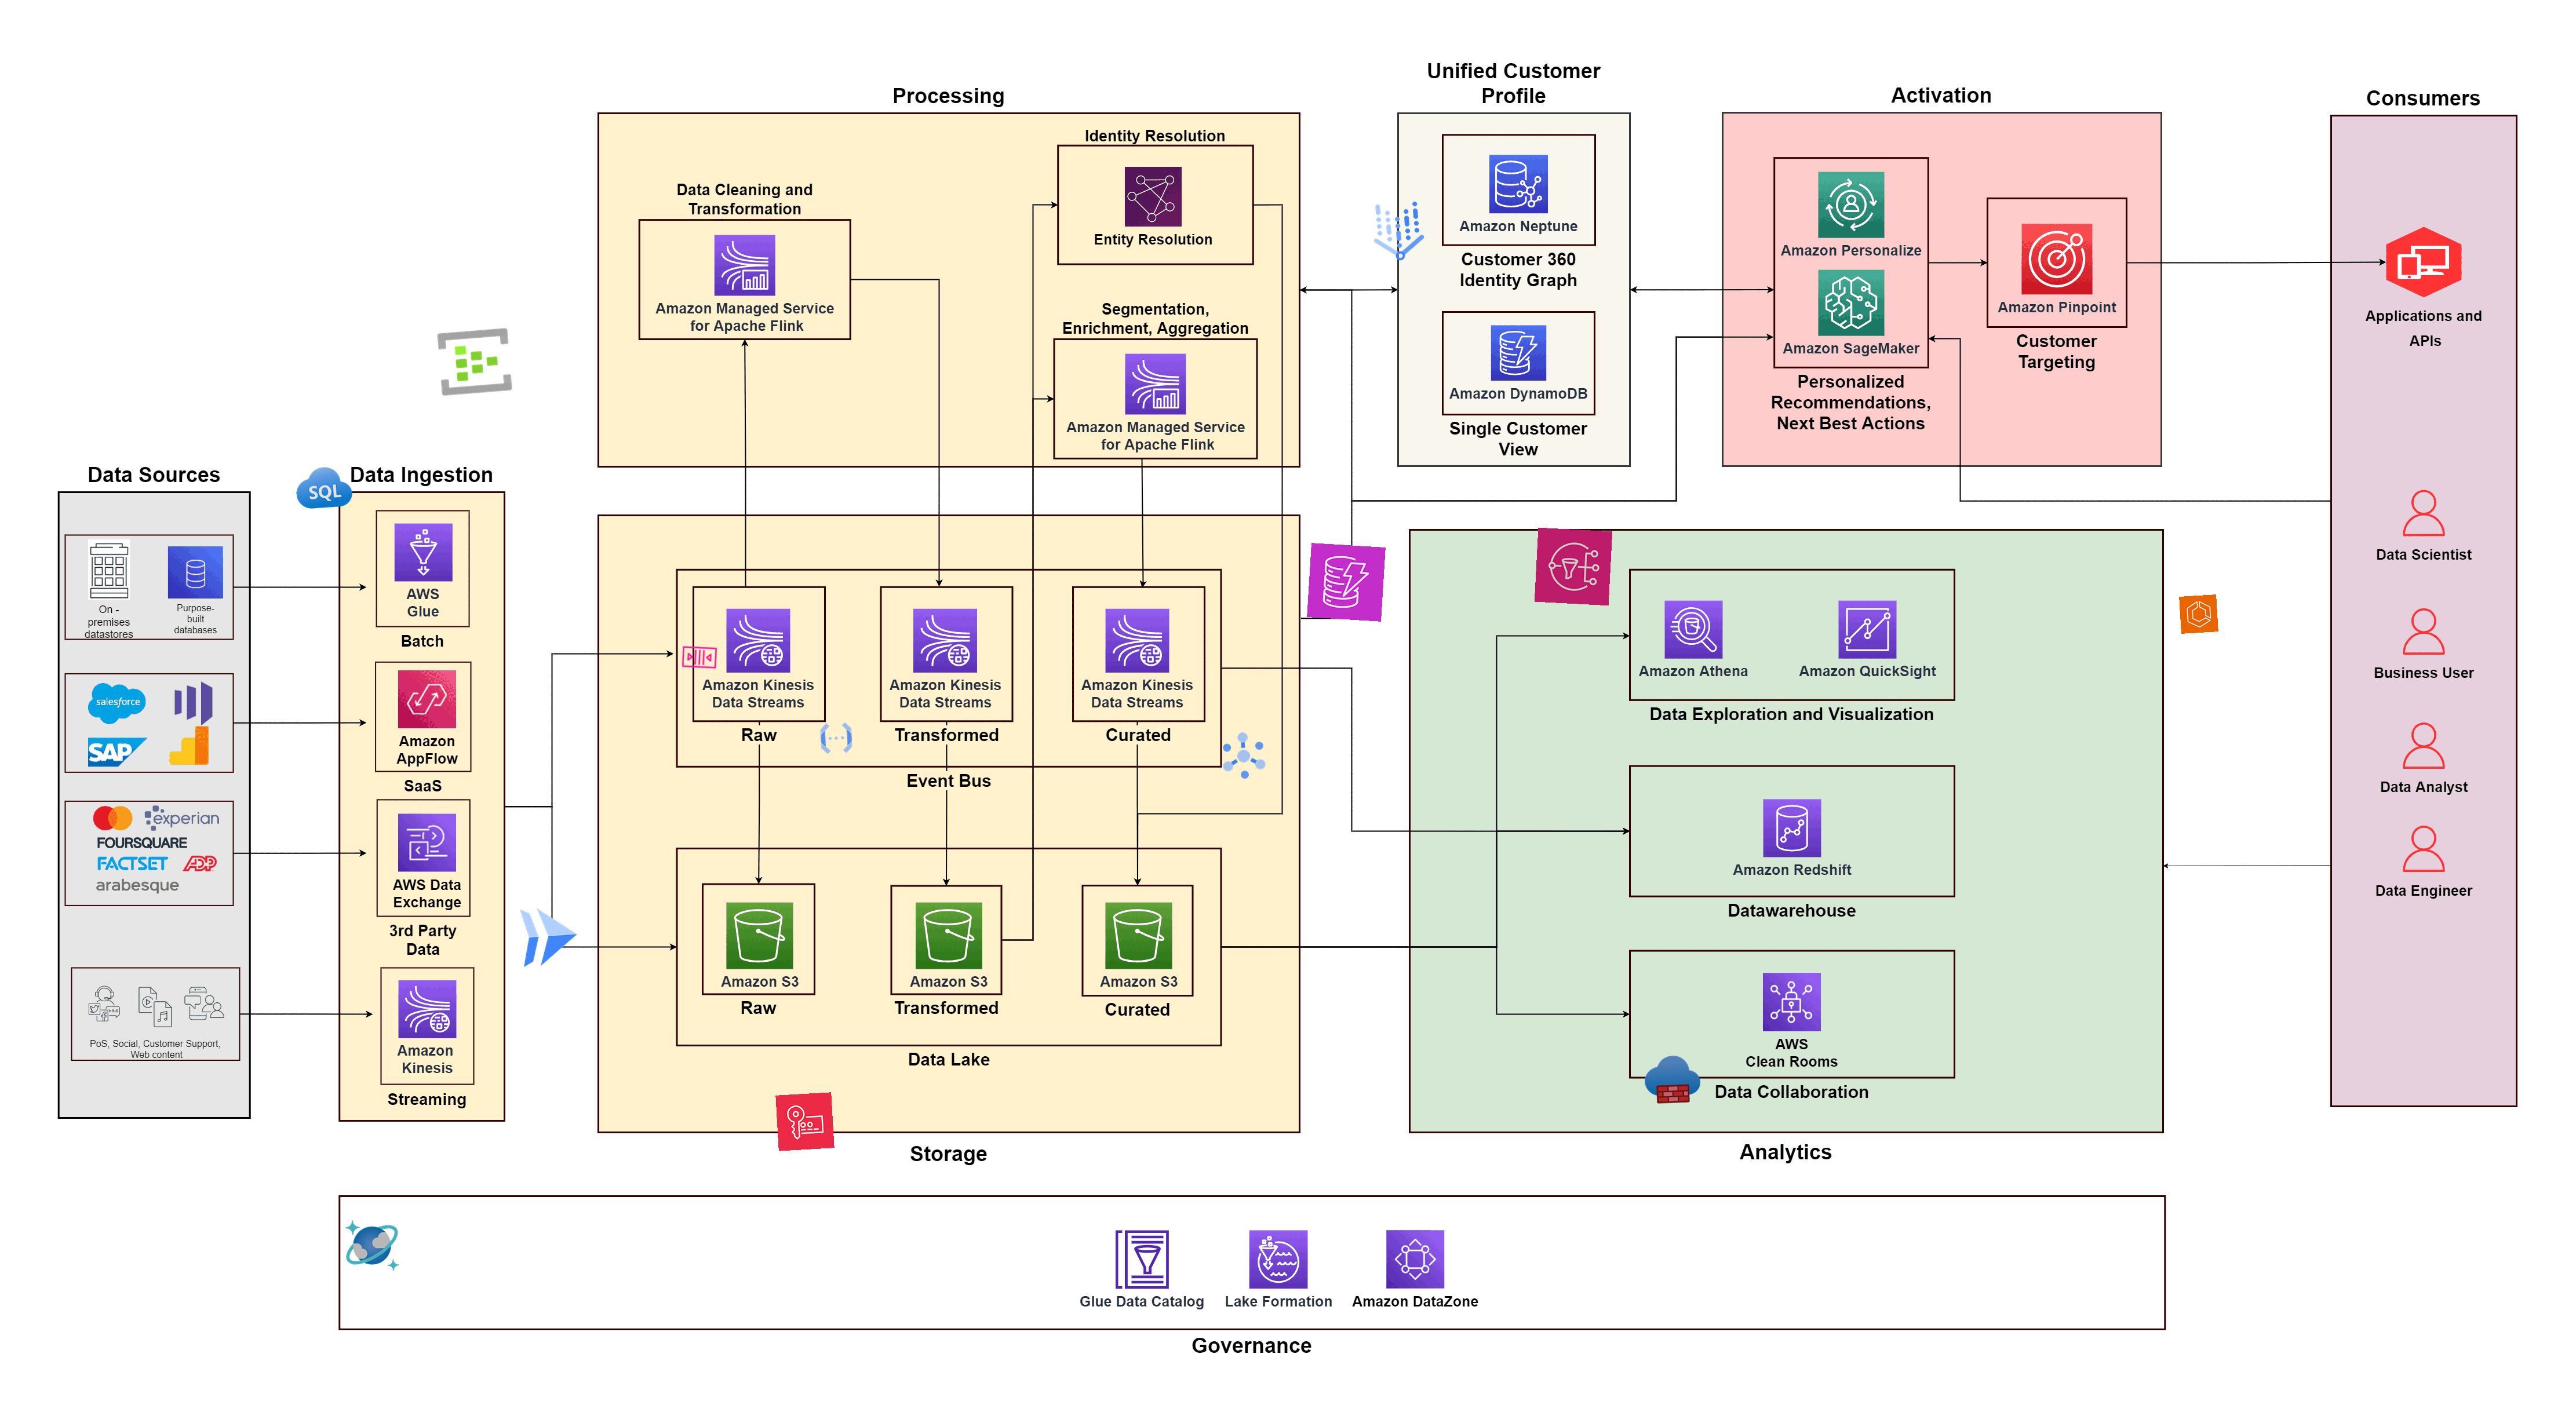aws_amazon_dynamodb: (1306, 542, 1385, 621)
aws_amazon_elastic_container_service: (2178, 595, 2218, 633)
aws_amazon_simple_notification_service: (1535, 527, 1613, 607)
aws_key_management_service: (776, 1092, 834, 1151)
aws_simple_queue_service_queue: (680, 637, 719, 677)
azure_cosmos_db: (344, 1217, 401, 1275)
azure_event_hubs: (434, 321, 515, 401)
azure_firewalls: (1643, 1050, 1702, 1109)
azure_sql: (293, 459, 354, 518)
gcp_cloud_functions: (816, 718, 856, 759)
gcp_cloud_run: (508, 896, 588, 977)
gcp_pubsub: (1214, 725, 1273, 785)
gcp_vertex_ai: (1359, 192, 1439, 272)
